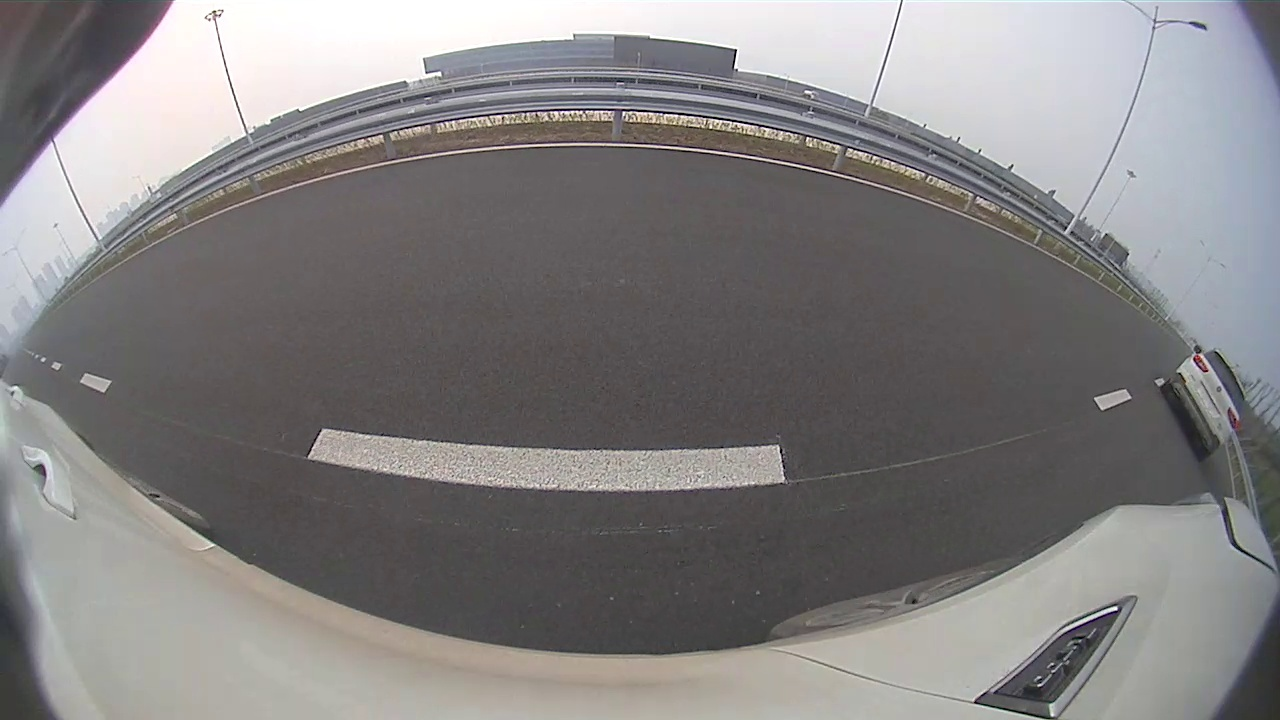car: (1160, 346, 1247, 460)
